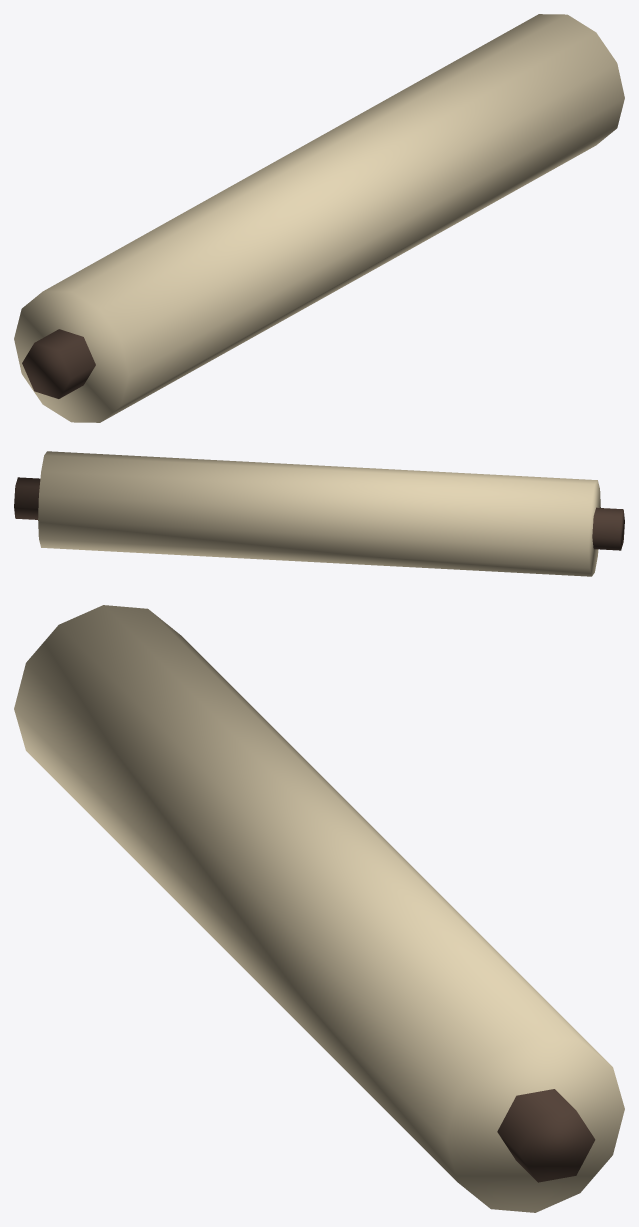
File: scroll_map_roll.glb
3 renders of one model, top to bottom at view 1: azimuth 30°, elevation 25°; view 2: azimuth 150°, elevation 25°; view 3: azimuth 270°, elevation 25°, orthographic. The views are drawn at different scales.
Parts seen in each view (by area): view 1: GD_scroll_map_roll__m0, GD_scroll_map_roll__m1; view 2: GD_scroll_map_roll__m0, GD_scroll_map_roll__m1; view 3: GD_scroll_map_roll__m0, GD_scroll_map_roll__m1.
Part boxes in pixels (x1,y1,x2,y2): GD_scroll_map_roll__m0: (14,14,624,422); GD_scroll_map_roll__m1: (22,329,95,398); GD_scroll_map_roll__m0: (38,451,600,576); GD_scroll_map_roll__m1: (14,477,624,550); GD_scroll_map_roll__m0: (14,605,624,1212); GD_scroll_map_roll__m1: (497,1089,595,1182).
Size of the model in its own units: 0.4169 by 0.07 by 0.2202.
